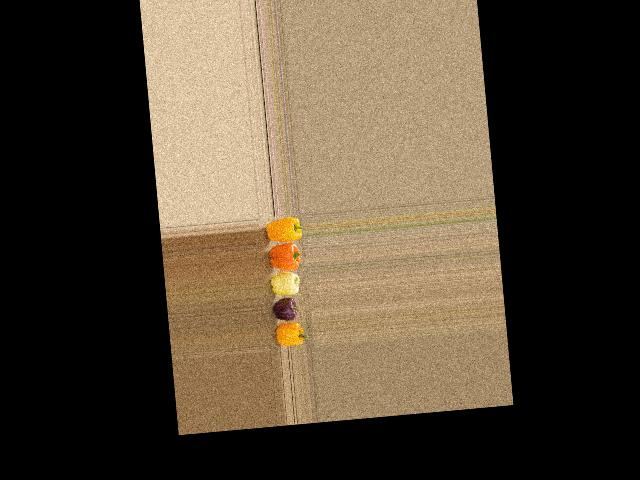bell_pepper: (269, 323, 310, 350)
